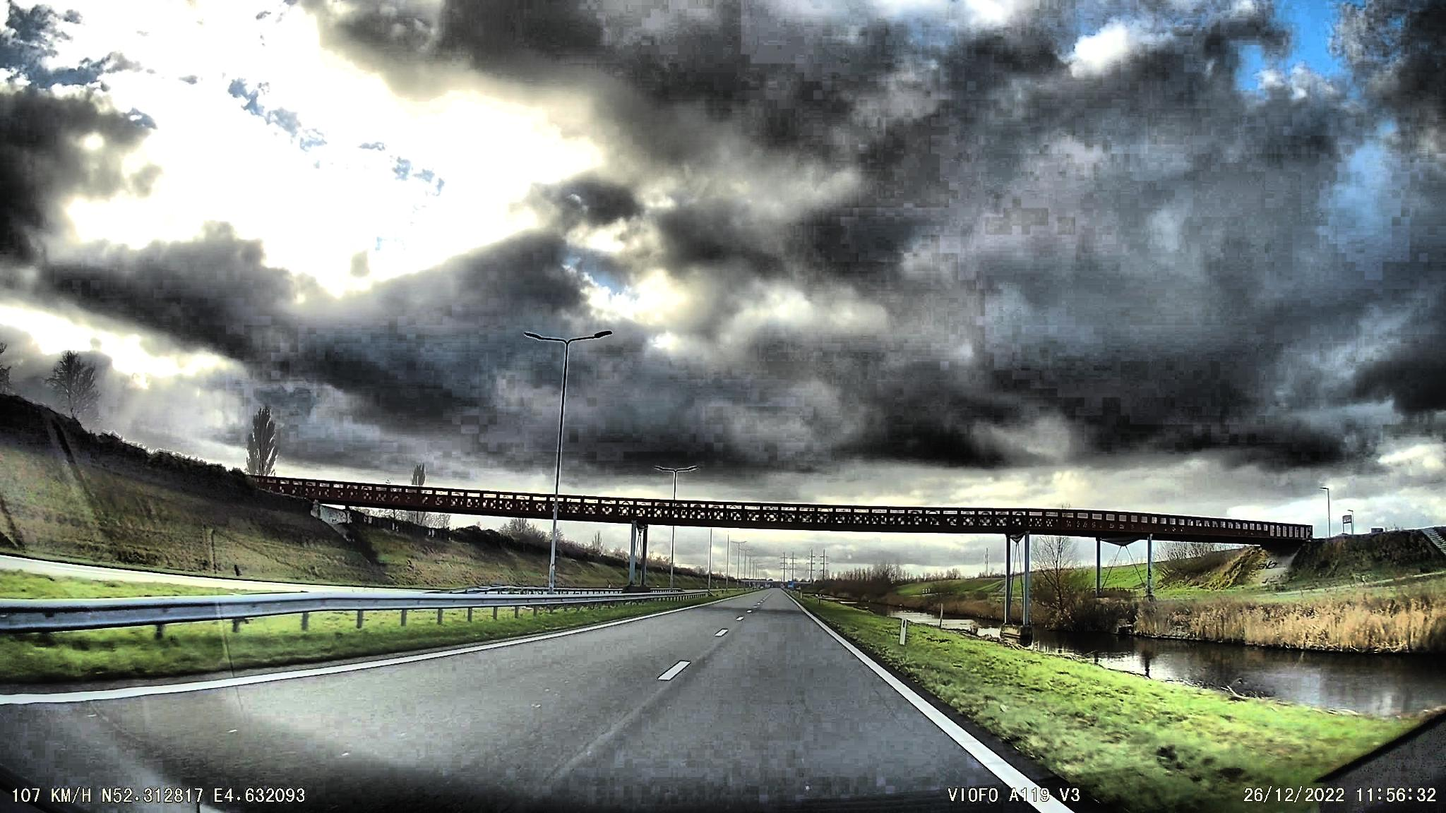Roads: (0, 594, 1082, 813)
